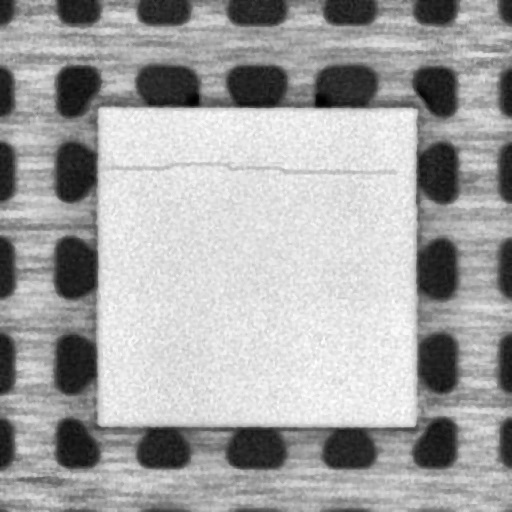DIE_CRACK: (107, 156, 396, 180)
